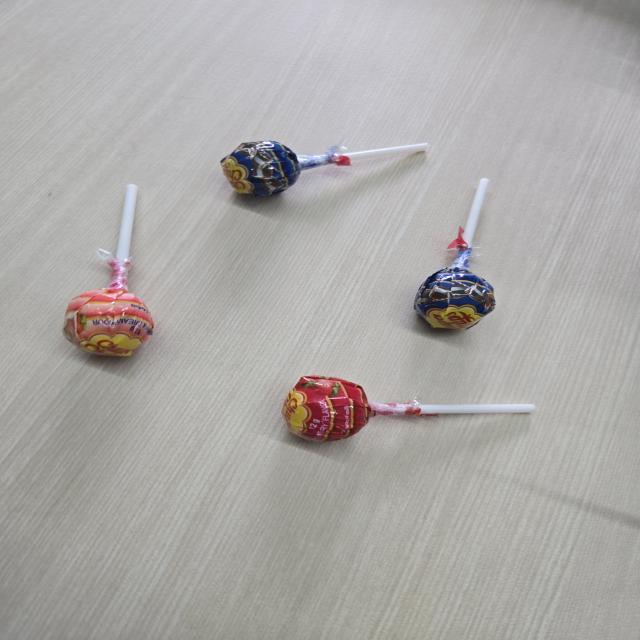lollipop: (279, 374, 540, 448), (63, 178, 158, 360), (408, 174, 504, 336), (219, 138, 432, 205)
